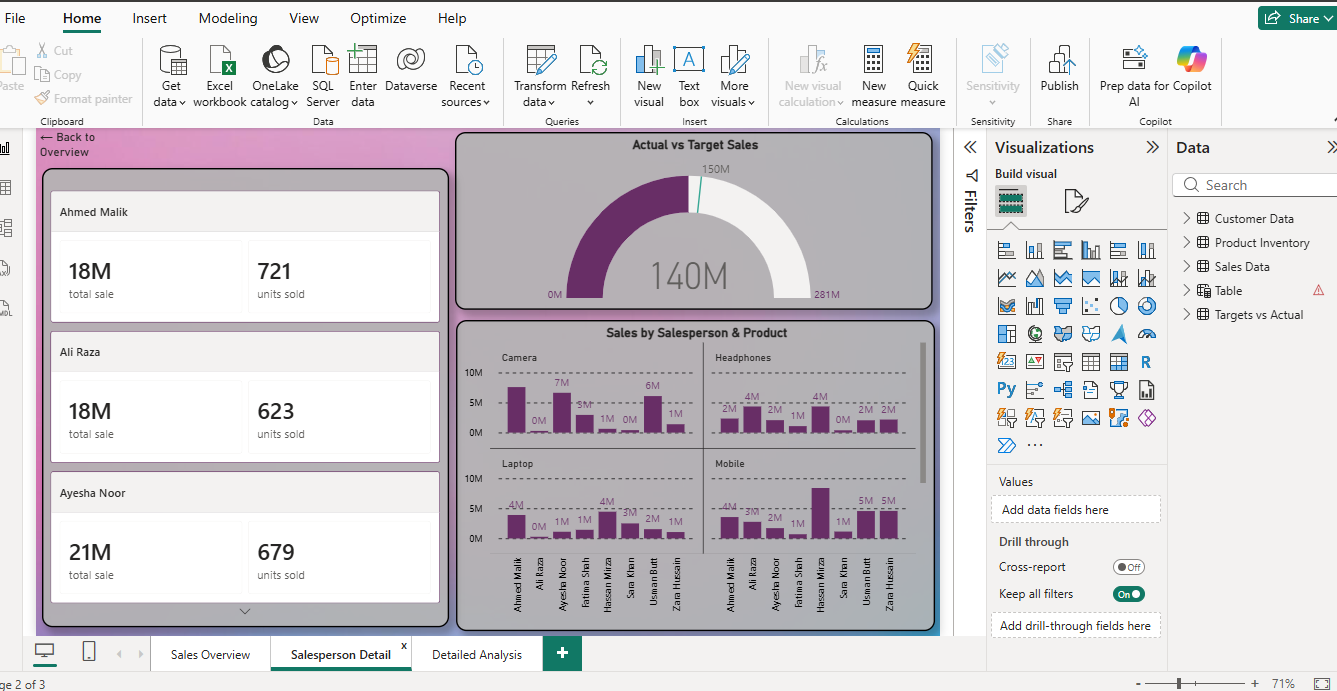

The page's visual inventory and layout, read from the dashboard file:
{"tool":"powerbi","page":{"name":"Salesperson Detail","canvas":[1280,720],"ordinal":1},"visuals":[{"type":"actionButton","title":"← Back to Overview","box":[5.7,1.4,137.5,41.1],"z":0},{"type":"clusteredColumnChart","title":"Sales by Salesperson & Product","fields":{"Y":["Sum(Sales Data.Total Sales (PKR))"],"Category":["Sales Data.Salesperson"],"Rows":["Sales Data.Product"]},"box":[595.3,272.1,678.9,440.8],"z":1000},{"type":"gauge","title":"Actual vs Target Sales","fields":{"Y":["Sum(Sales Data.Total Sales (PKR))"],"TargetValue":["Sum(Targets vs Actual.Sales Target (PKR))"]},"box":[593.9,5.7,677.5,252.3],"z":2000},{"type":"cardVisual","title":"Salesperson Performance Summary","fields":{"Data":["Sum(Sales Data.Total Sales (PKR))","Sum(Sales Data.Units Sold)"],"Rows":["Sales Data.Salesperson"]},"box":[8.5,56.7,576.9,650.6],"z":3000}]}

Visuals, with their boxes on the page's 1280x720 design canvas (x1, y1, x2, y2). These are canvas units, not pixel positions in the 1337x691 screenshot, which may show the page scaled, cropped or inside an application window:
"← Back to Overview" actionButton: x1=6 y1=1 x2=143 y2=42
"Sales by Salesperson & Product" clusteredColumnChart: x1=595 y1=272 x2=1274 y2=713
"Actual vs Target Sales" gauge: x1=594 y1=6 x2=1271 y2=258
"Salesperson Performance Summary" cardVisual: x1=8 y1=57 x2=585 y2=707
